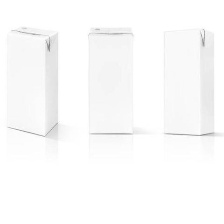carton: (3, 20, 61, 136), (158, 27, 217, 140), (84, 22, 138, 138)
